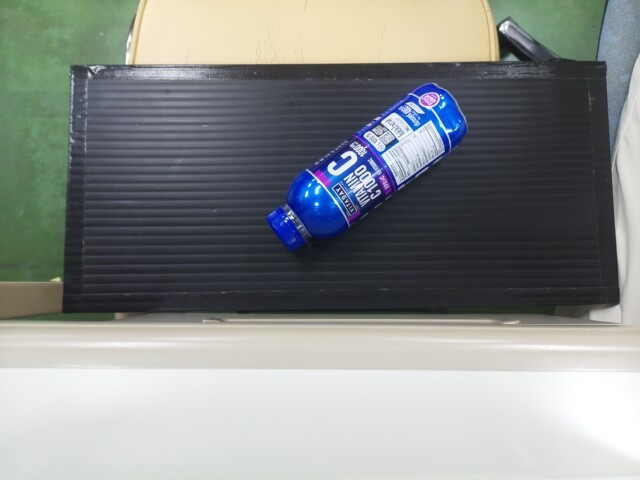plastic_bottle: (267, 93, 431, 251)
